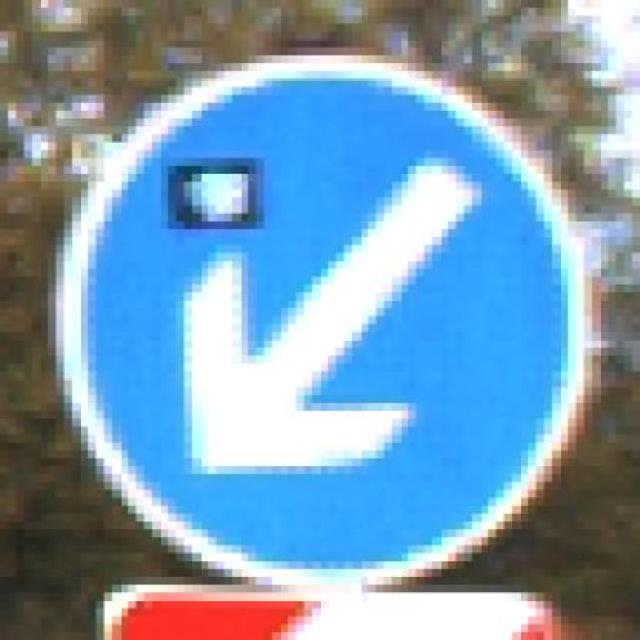Keep-Left: (24, 24, 616, 593)
